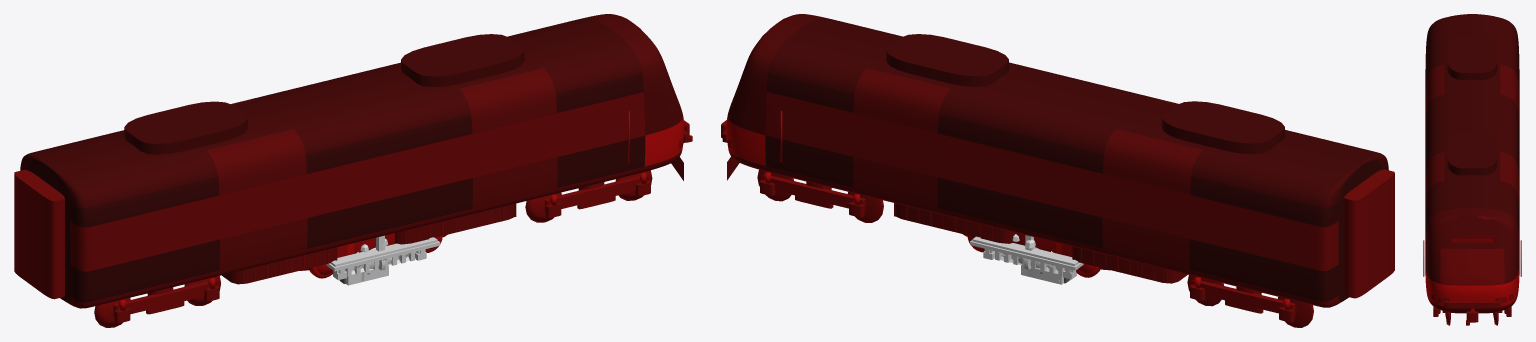
File: kits.glb
The picture shows the model from 3 angles, left to right: view 1: azimuth 30°, elevation 25°; view 2: azimuth 150°, elevation 25°; view 3: azimuth 270°, elevation 25°; orthographic projection. The views are drawn at different scales.
Parts seen in each view (by area): view 1: veh_railEnd, veh_railEnd_gear, crown_arcology.trim, crown_arcology.band, veh_cab, crown_deco.trim; view 2: veh_railEnd, veh_railEnd_gear, crown_arcology.trim, crown_arcology.band, veh_cab; view 3: veh_railEnd, veh_railEnd_gear.
Part boxes in pixels (box(x1,y1,x2,y2)): veh_railEnd: box(20, 14, 684, 308); veh_railEnd_gear: box(14, 34, 692, 327); crown_arcology.trim: box(326, 235, 440, 271); crown_arcology.band: box(330, 237, 437, 266); veh_cab: box(299, 233, 447, 270); crown_deco.trim: box(334, 249, 425, 278); veh_railEnd: box(726, 14, 1388, 307); veh_railEnd_gear: box(721, 34, 1394, 327); crown_arcology.trim: box(970, 235, 1083, 270); crown_arcology.band: box(972, 234, 1078, 266); veh_cab: box(963, 232, 1110, 270); veh_railEnd: box(1425, 14, 1519, 313); veh_railEnd_gear: box(1423, 36, 1521, 325).
Bounding box in the file's own units: 16.16 × 4.48 × 2.97.
